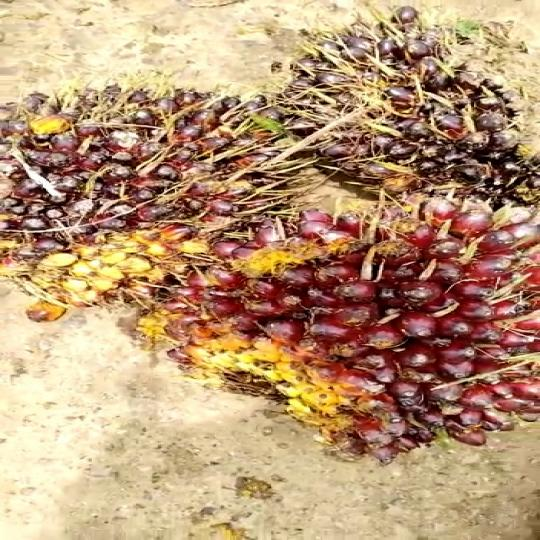kurang masak: (127, 183, 540, 466), (271, 4, 540, 203), (0, 90, 297, 268)
